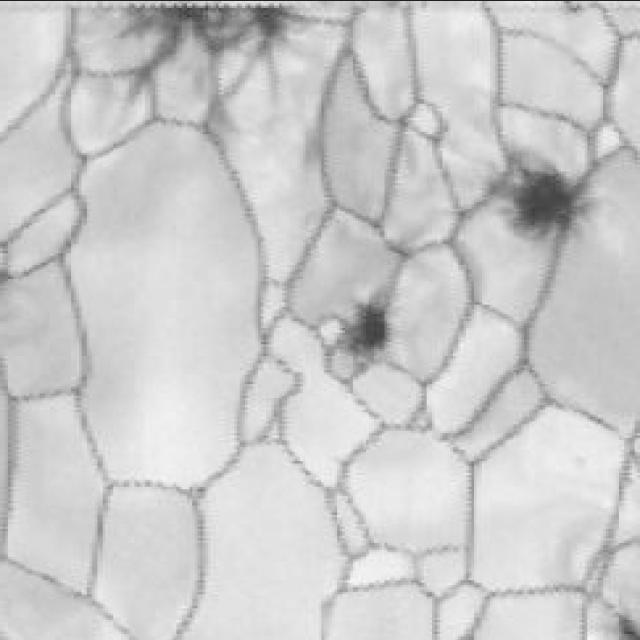good_void: (111, 3, 304, 119), (487, 167, 601, 244), (337, 300, 393, 362)
